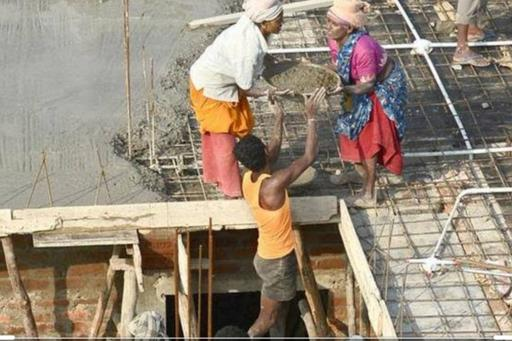unsafe person: (316, 1, 417, 208), (233, 135, 308, 337), (190, 1, 290, 116)
